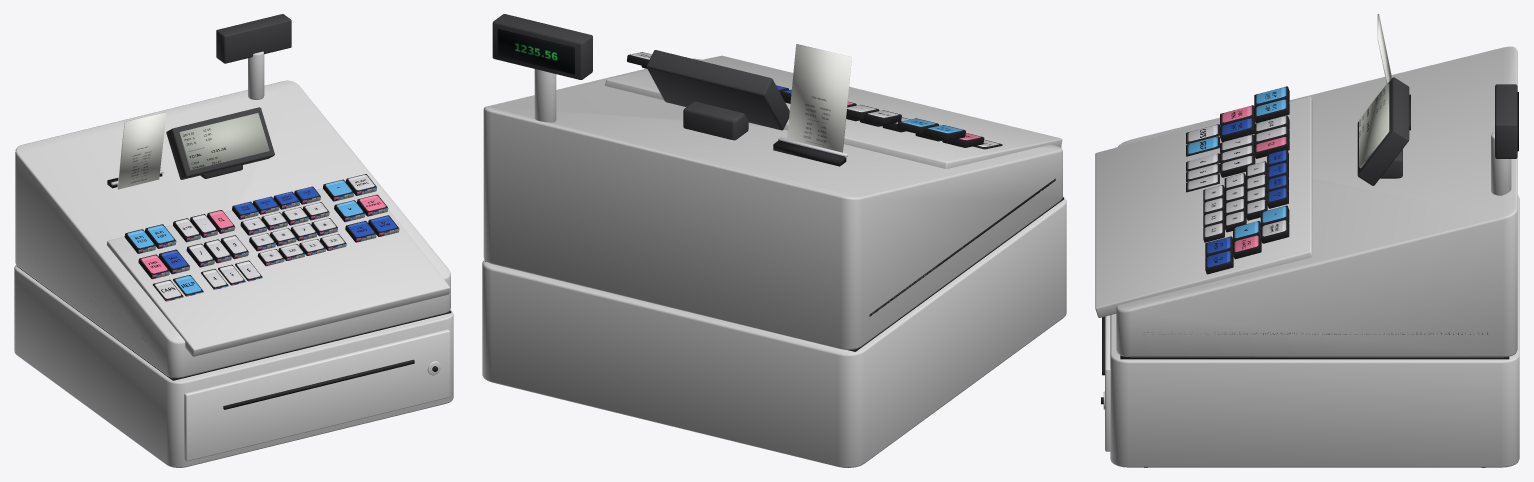
The model's file is cash_register.fbx.
3 views of the same model, side by side, from view 1: azimuth 30°, elevation 25°; view 2: azimuth 150°, elevation 25°; view 3: azimuth 270°, elevation 25° (orthographic). The views are drawn at different scales.
Visible parts, largest first — view 1: CashRegister; view 2: CashRegister; view 3: CashRegister.
Boxes of the visible parts, box(x1,y1,x2,y2) form: CashRegister: box(14, 14, 453, 467); CashRegister: box(482, 14, 1066, 467); CashRegister: box(1095, 14, 1519, 467).
Size of the model in its own units: 0.4 by 0.373 by 0.4145.
10 materials, 4 textured.
